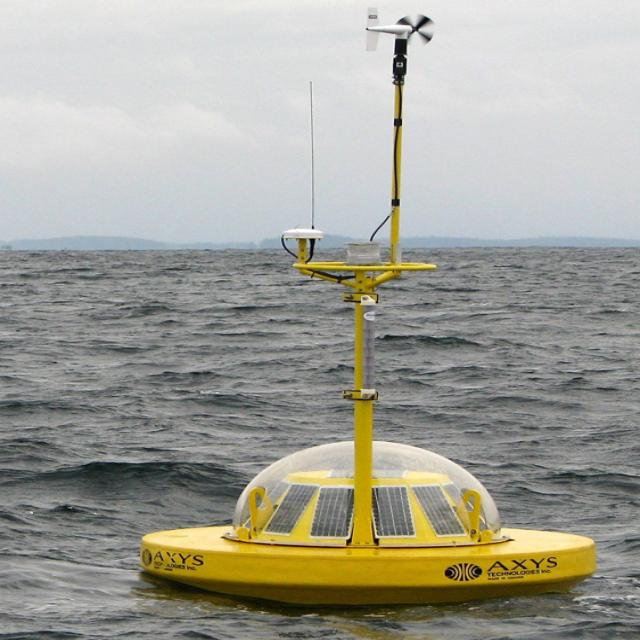buoy: (133, 211, 600, 599)
